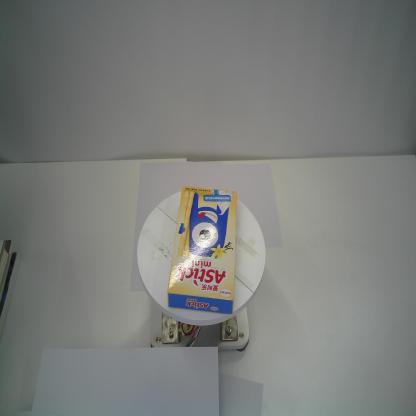Dessert: (167, 184, 238, 316)
